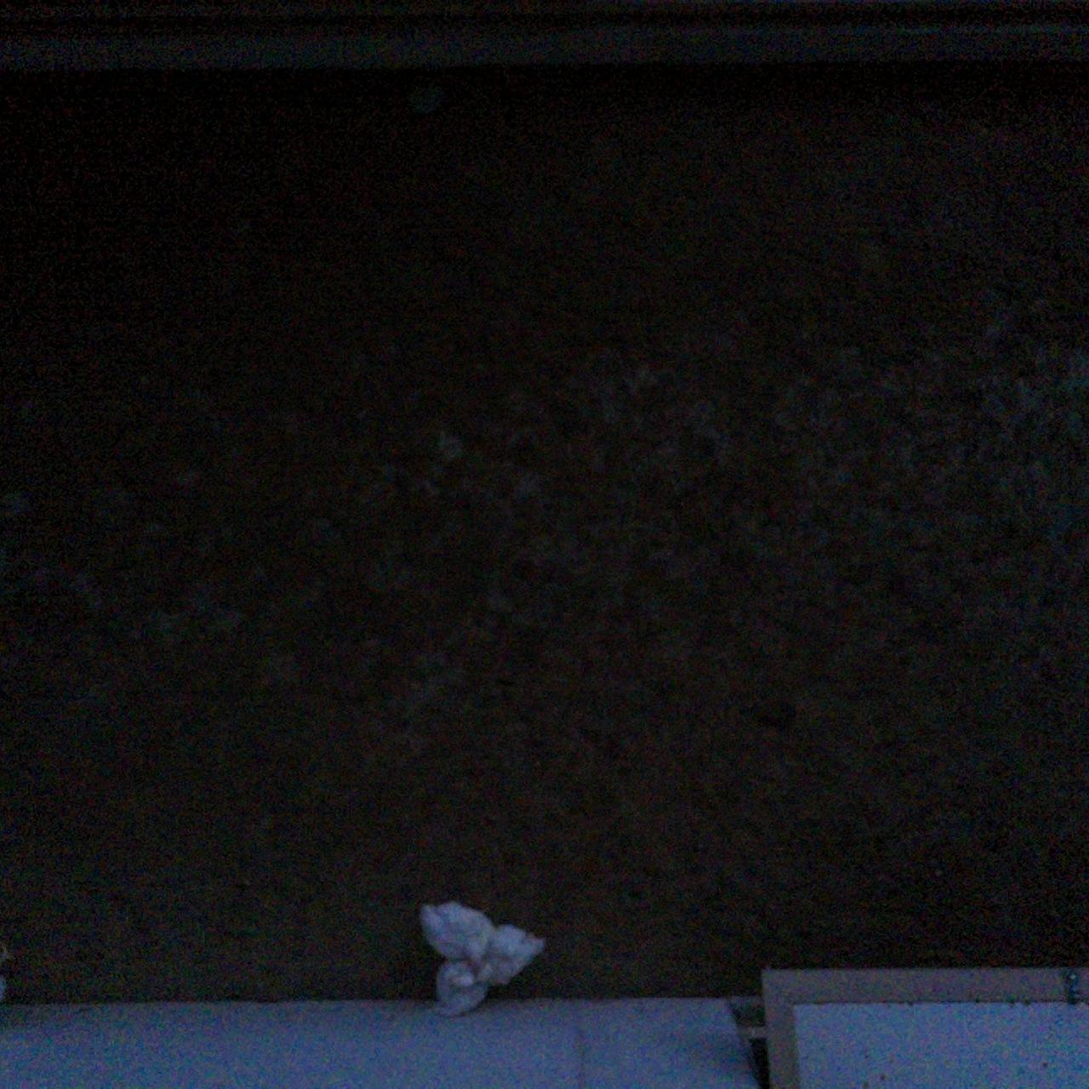chicken: (415, 896, 496, 966), (427, 956, 494, 1028), (477, 922, 550, 988)
